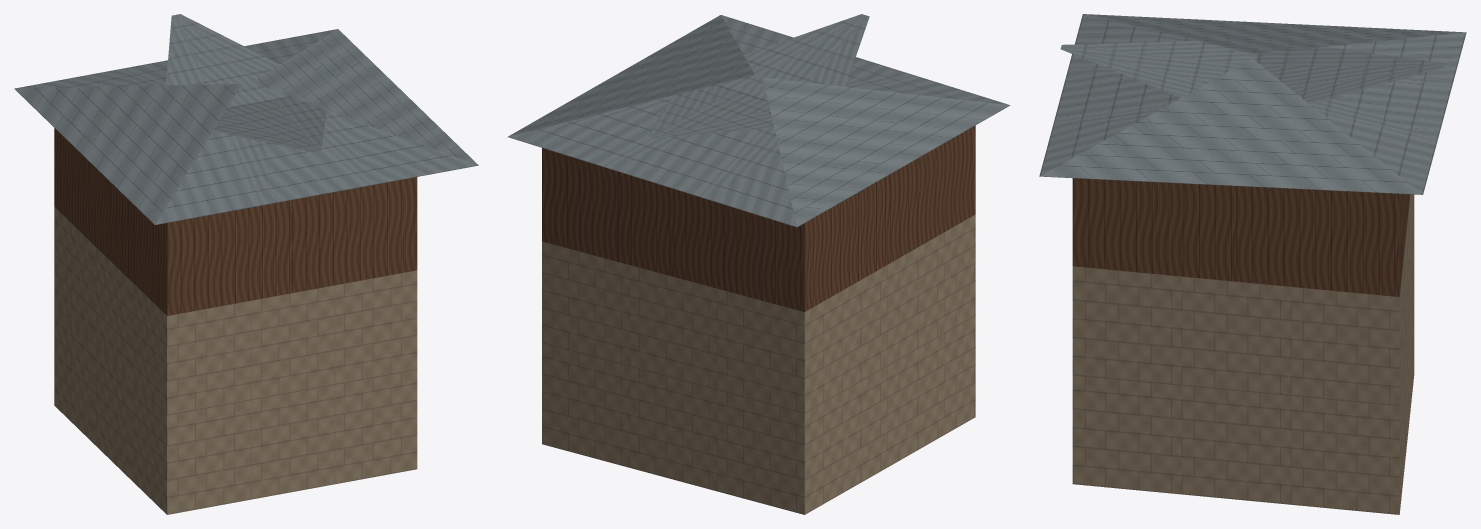
Rendered from bld_c15_44_462.gltf.
The picture shows the model from 3 angles, left to right: view 1: azimuth 30°, elevation 25°; view 2: azimuth 150°, elevation 25°; view 3: azimuth 270°, elevation 25°; orthographic projection. The views are drawn at different scales.
Visible parts, largest first — view 1: bld_c15_44_462; view 2: bld_c15_44_462; view 3: bld_c15_44_462.
Boxes of the visible parts, x1,y1,x2,y2 form: bld_c15_44_462: [14, 14, 478, 514]; bld_c15_44_462: [508, 14, 1010, 514]; bld_c15_44_462: [1039, 14, 1466, 514].
Bounding box in the file's own units: 8.05 × 7.9 × 8.04.
3 materials, 3 textured.
